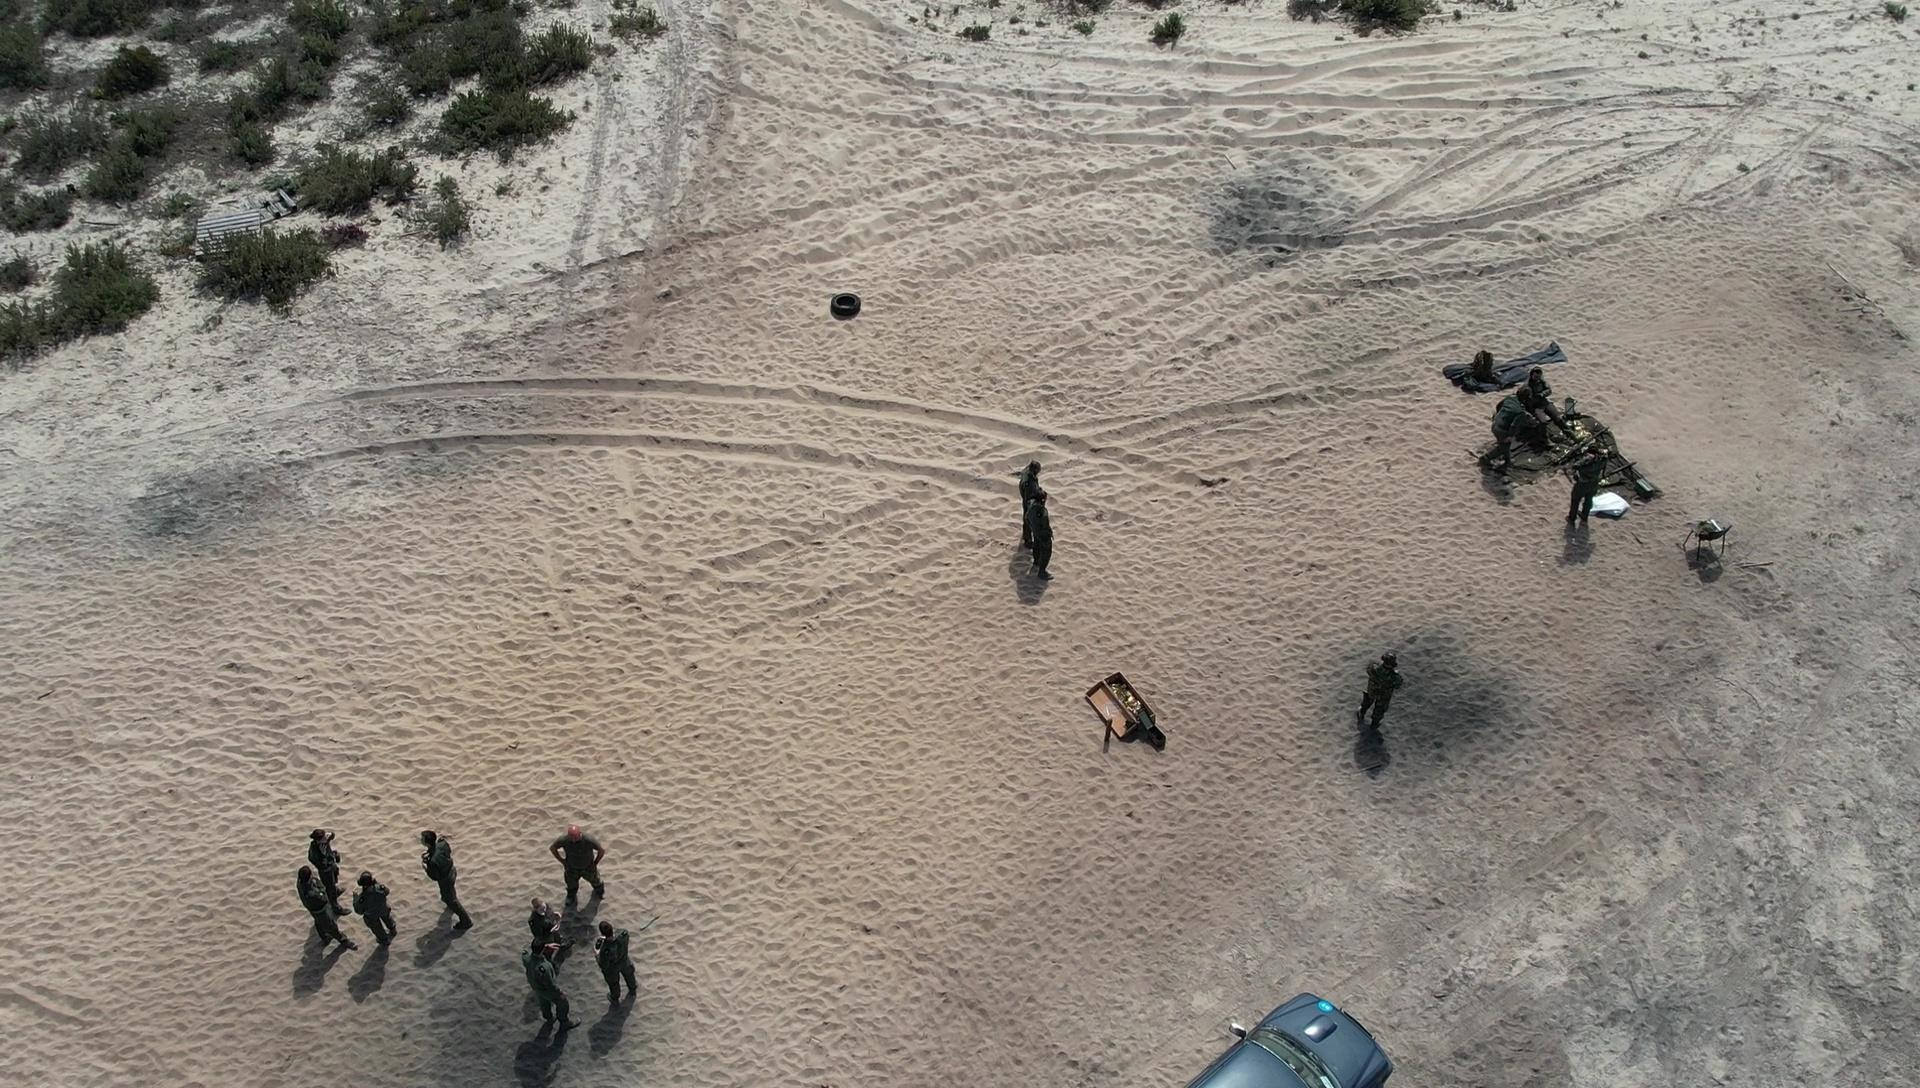Soldier: (413, 820, 487, 943), (509, 924, 580, 1039), (286, 860, 360, 964), (547, 810, 618, 915), (587, 914, 651, 1023), (345, 856, 407, 959), (1353, 640, 1406, 742), (1021, 485, 1069, 587), (1482, 386, 1534, 473), (1568, 440, 1606, 541), (1526, 363, 1569, 447), (516, 886, 567, 944), (313, 818, 349, 898)
